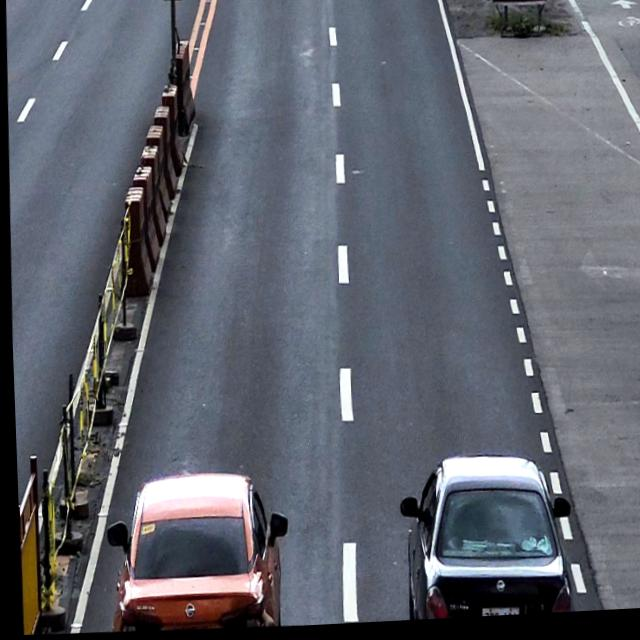Car: (98, 469, 287, 635), (392, 454, 571, 625)
License-Plate: (475, 608, 516, 621)
